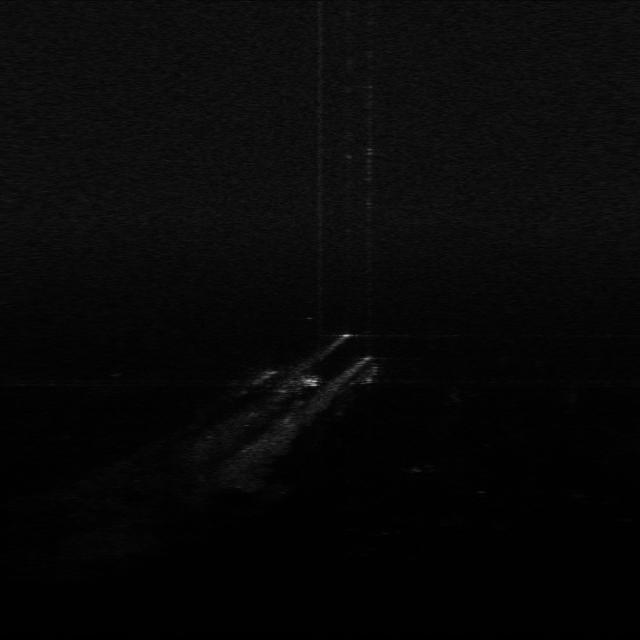rov: (299, 374, 322, 390)
